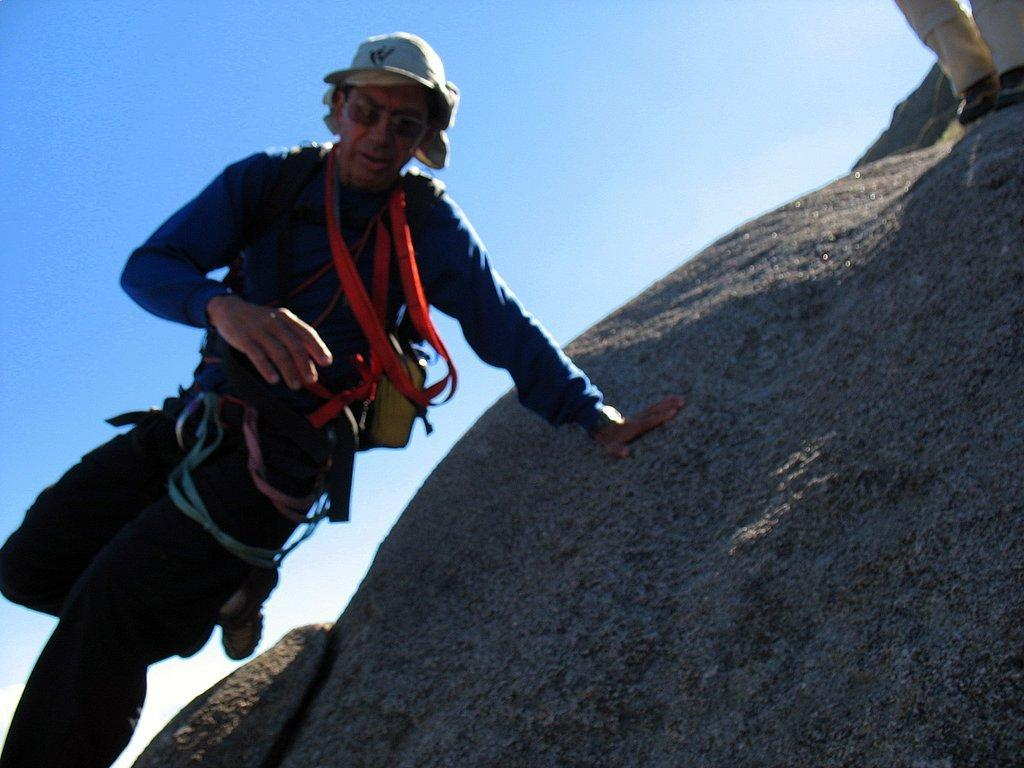Hat: (319, 28, 453, 172)
